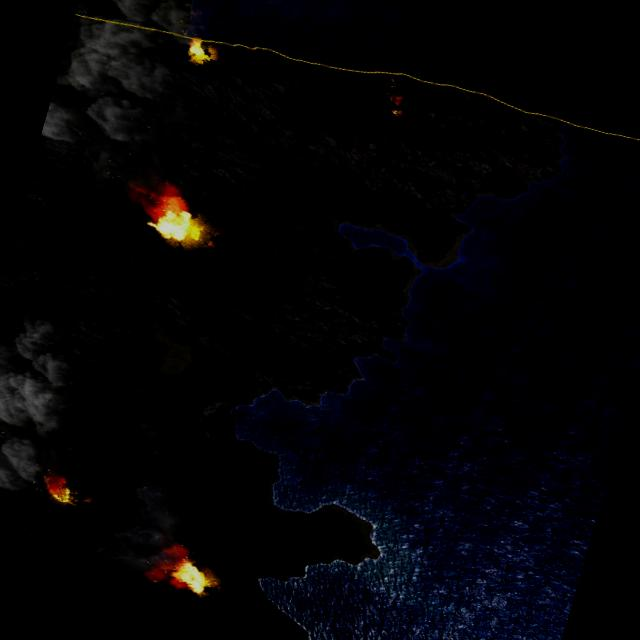fire: (142, 188, 211, 250), (160, 549, 220, 598), (38, 472, 84, 508), (185, 36, 214, 66), (382, 92, 407, 118)
smoke: (28, 8, 209, 216), (0, 297, 96, 499), (92, 470, 198, 586), (78, 0, 215, 42)
